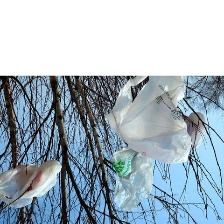plastic_bag: (102, 74, 193, 164), (0, 157, 63, 210), (109, 145, 155, 212), (173, 108, 211, 156)
